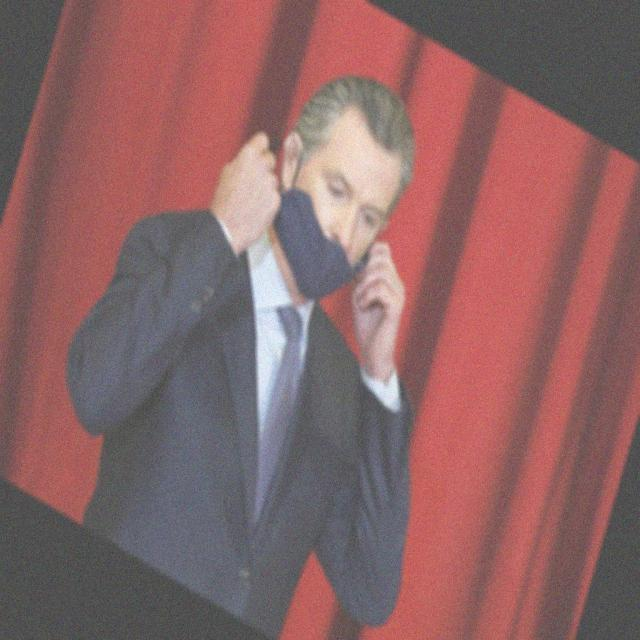hairnet: (253, 138, 409, 300)
